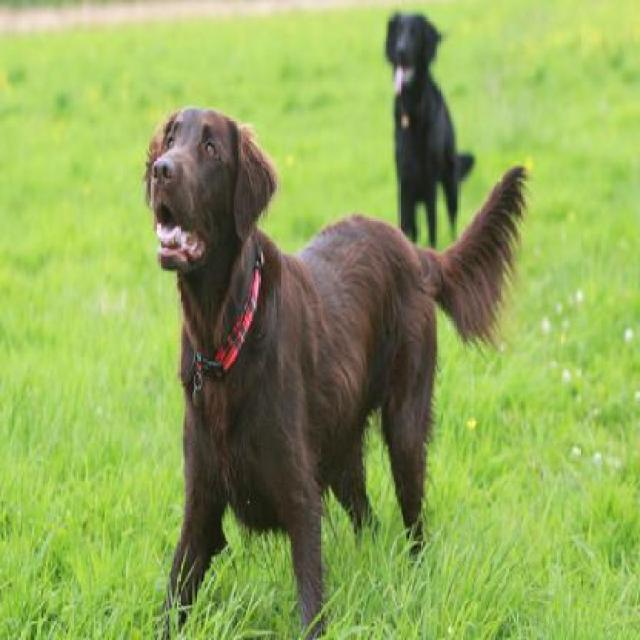animals: (139, 103, 556, 640), (386, 9, 474, 232)
